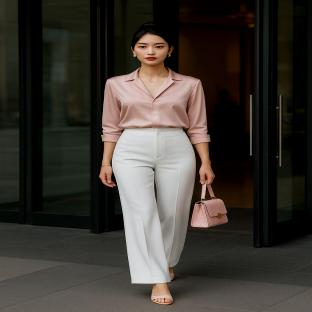Human: (100, 23, 215, 305)
